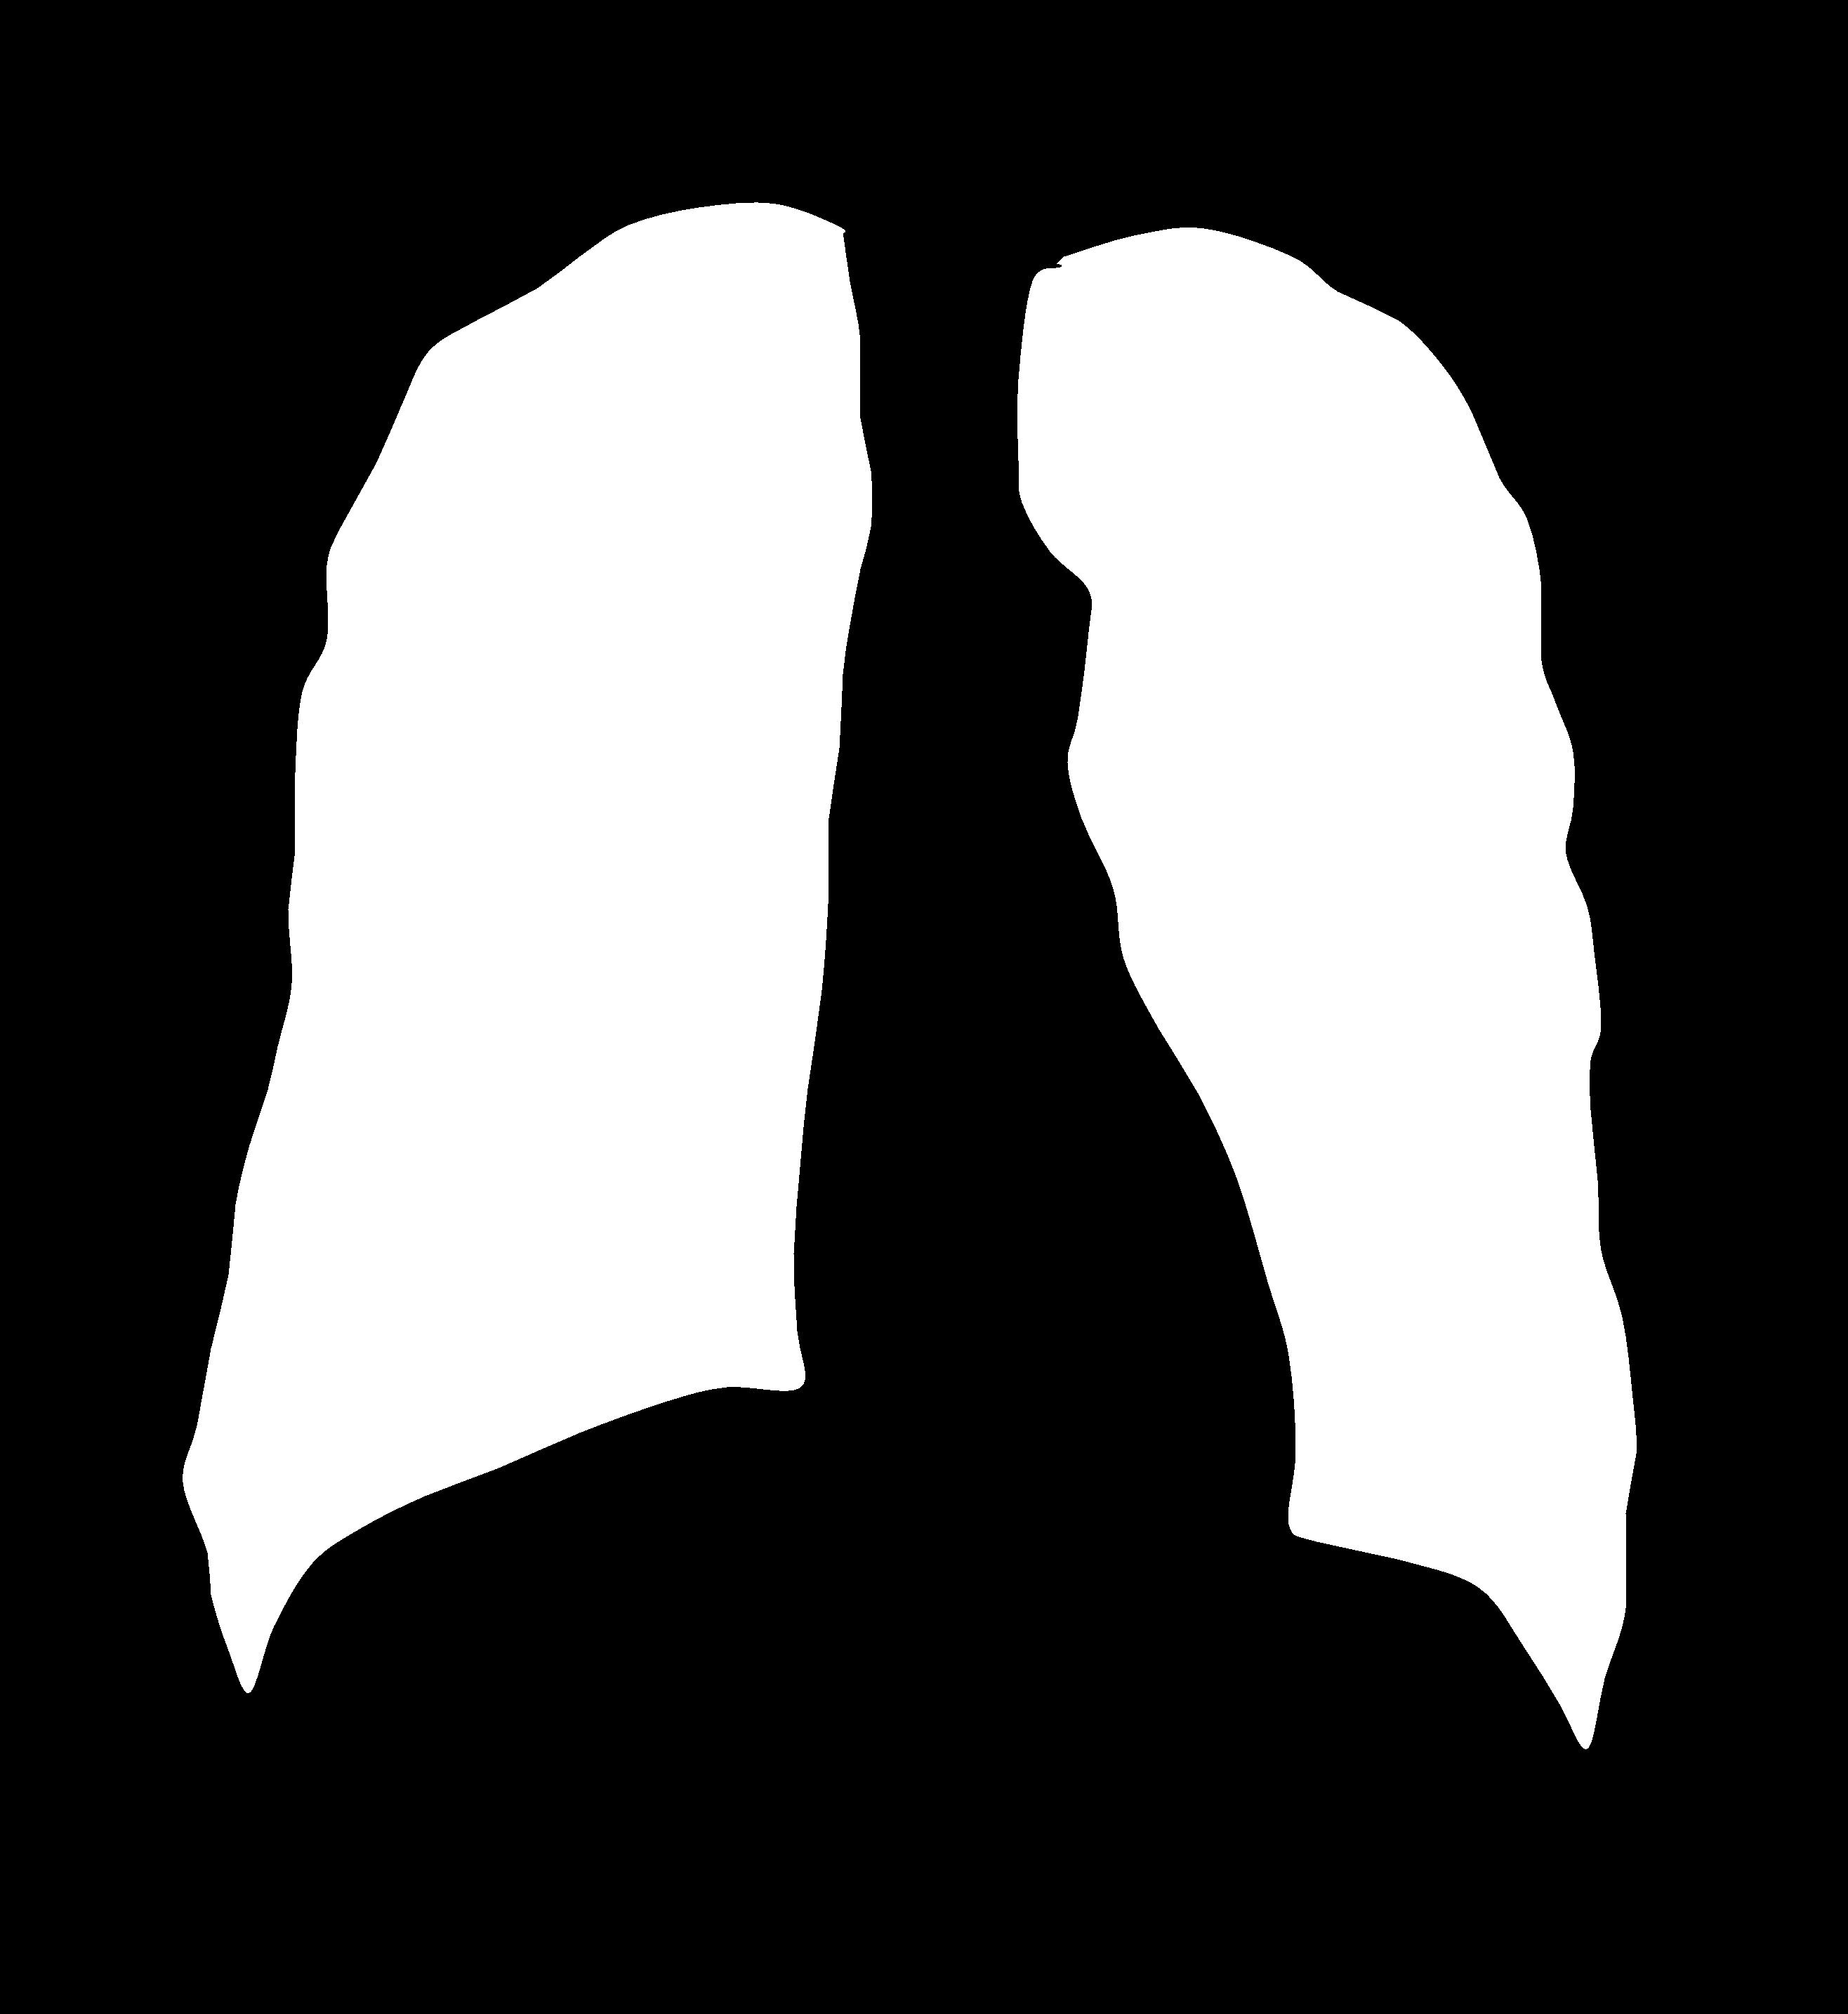heart: (796, 968, 1308, 1551)
left_lung: (195, 202, 871, 1695)
right_lung: (1017, 228, 1643, 1739)
